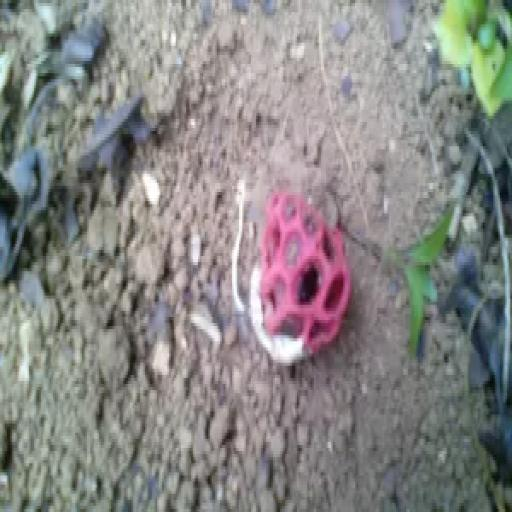Red Cage Fungus: (247, 195, 351, 365)
